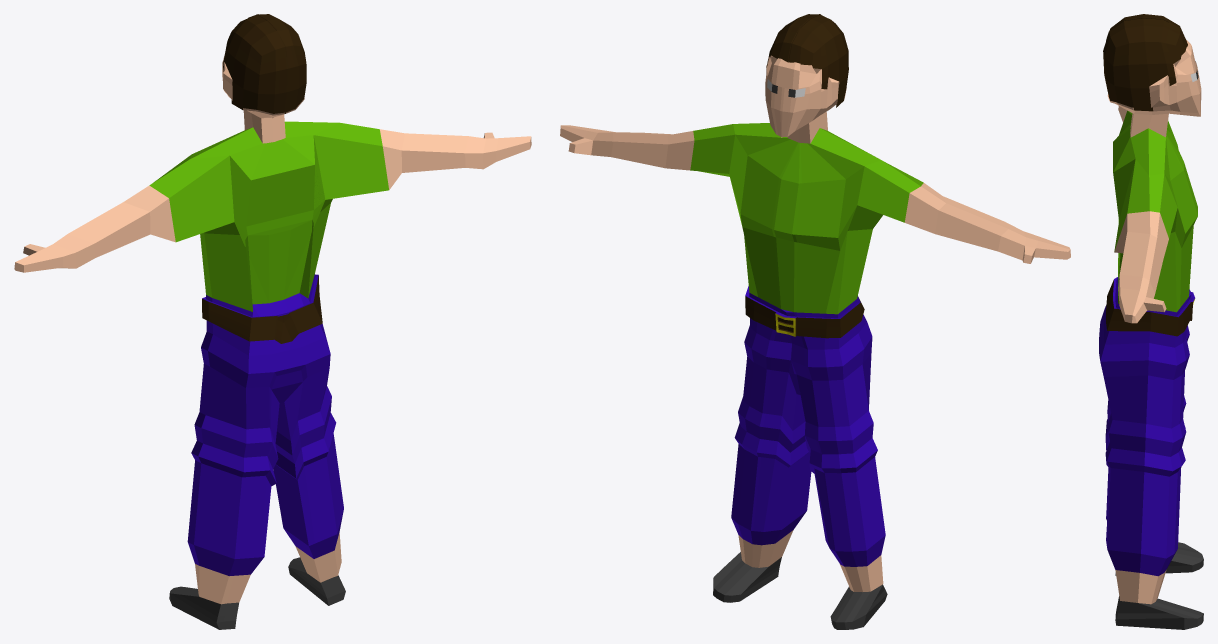
Rendered from PROTABUENO.fbx.
The picture shows the model from 3 angles, left to right: view 1: azimuth 30°, elevation 25°; view 2: azimuth 150°, elevation 25°; view 3: azimuth 270°, elevation 25°; orthographic projection.
Visible parts, largest first — view 1: protaç; view 2: protaç; view 3: protaç.
Boxes of the visible parts, <box> form: protaç: <box>14,14,531,629</box>; protaç: <box>560,14,1070,629</box>; protaç: <box>1099,14,1203,629</box>.
Bounding box in the file's own units: 918 × 997 × 163.
